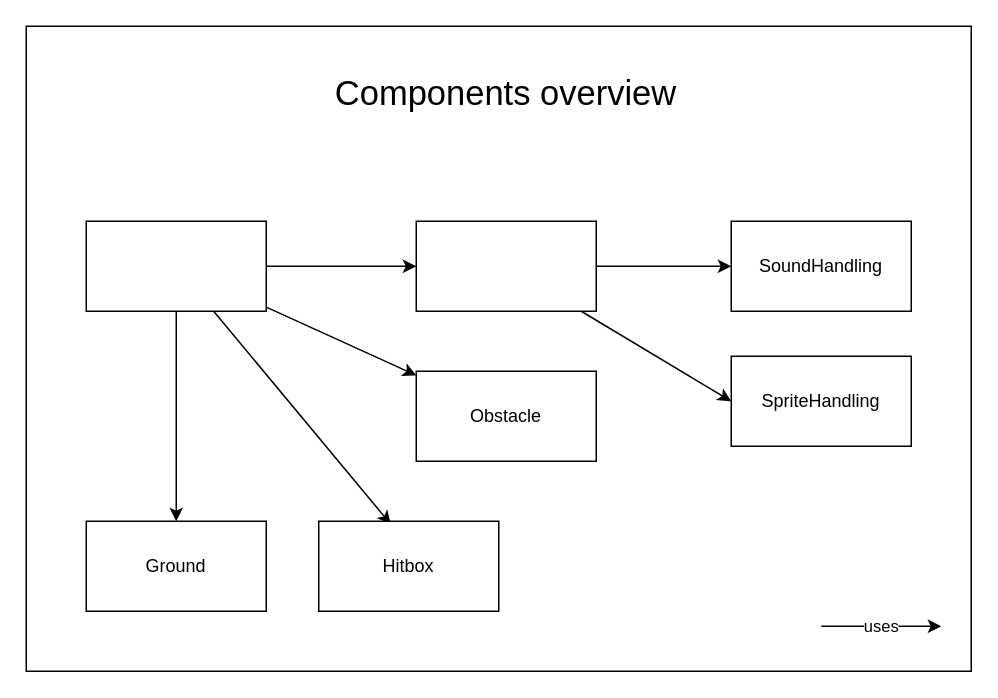
The diagram is 998 pixels wide and 698 high, and some of its shapes have lost their labels. Each missing label, with the box of its shape:
Main: (85, 220, 266, 311)
Player: (415, 220, 596, 311)
